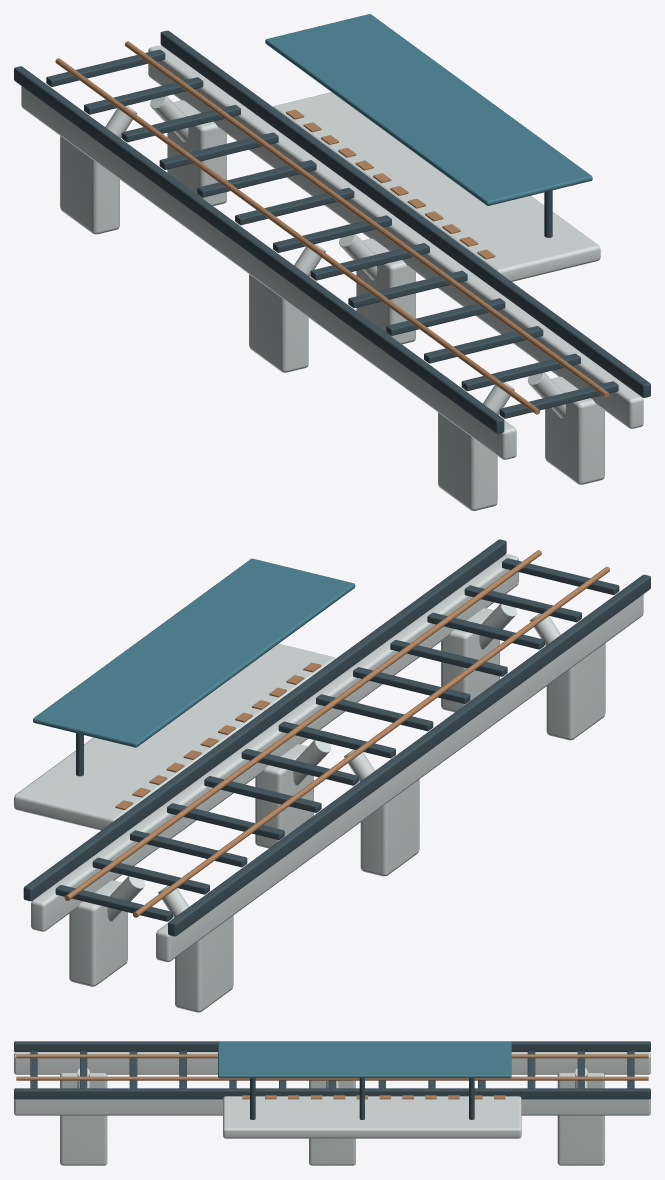
File: ElevatedRail112.fbx
3 views of the same model, one above another, from view 1: azimuth 30°, elevation 25°; view 2: azimuth 150°, elevation 25°; view 3: azimuth 270°, elevation 25° (orthographic). The views are drawn at different scales.
Visible parts, largest first — view 1: Platform glass canopy, Platform, Rail viaduct girder.001, Rail viaduct girder, Rail safety curb, Rail safety curb.001, Viaduct pier.003, Viaduct pier.002, Viaduct pier.001, Viaduct pier, Contact rail, Contact rail.001 (+18 smaller); view 2: Platform glass canopy, Platform, Rail viaduct girder.001, Rail viaduct girder, Rail safety curb, Rail safety curb.001, Viaduct pier.005, Viaduct pier, Viaduct pier.001, Viaduct pier.002, Contact rail, Contact rail.001 (+18 smaller); view 3: Platform, Platform glass canopy, Rail safety curb.001, Rail viaduct girder, Rail viaduct girder.001, Rail safety curb, Contact rail.001, Viaduct pier.003, Viaduct pier.005, Contact rail, Viaduct pier.004, Viaduct pier (+12 smaller).
Part boxes in pixels (left/top/right/bottom): Platform glass canopy: left=265, top=14, right=592, bottom=205; Platform: left=273, top=92, right=600, bottom=281; Rail viaduct girder.001: left=148, top=45, right=643, bottom=428; Rail viaduct girder: left=21, top=86, right=516, bottom=459; Rail safety curb: left=14, top=66, right=504, bottom=433; Rail safety curb.001: left=160, top=30, right=650, bottom=397; Viaduct pier.003: left=545, top=376, right=604, bottom=484; Viaduct pier.002: left=60, top=136, right=119, bottom=234; Viaduct pier.001: left=249, top=274, right=308, bottom=372; Viaduct pier: left=438, top=412, right=497, bottom=510; Contact rail: left=55, top=58, right=539, bottom=414; Contact rail.001: left=125, top=41, right=609, bottom=397; Platform glass canopy: left=33, top=558, right=355, bottom=747; Platform: left=14, top=643, right=335, bottom=830; Rail viaduct girder.001: left=31, top=554, right=518, bottom=931; Rail viaduct girder: left=156, top=594, right=643, bottom=961; Rail safety curb: left=168, top=574, right=650, bottom=936; Rail safety curb.001: left=23, top=539, right=506, bottom=901; Viaduct pier.005: left=69, top=880, right=127, bottom=986; Viaduct pier: left=546, top=643, right=605, bottom=740; Viaduct pier.001: left=360, top=779, right=419, bottom=876; Viaduct pier.002: left=175, top=915, right=233, bottom=1012; Contact rail: left=133, top=566, right=609, bottom=917; Contact rail.001: left=64, top=550, right=541, bottom=900; Platform: left=223, top=1096, right=521, bottom=1138; Platform glass canopy: left=218, top=1041, right=511, bottom=1078; Rail safety curb.001: left=14, top=1088, right=650, bottom=1099; Rail viaduct girder: left=14, top=1052, right=650, bottom=1074; Rail viaduct girder.001: left=14, top=1098, right=650, bottom=1115; Rail safety curb: left=14, top=1041, right=650, bottom=1051; Contact rail.001: left=16, top=1076, right=648, bottom=1080; Viaduct pier.003: left=60, top=1115, right=107, bottom=1165; Viaduct pier.005: left=557, top=1115, right=604, bottom=1165; Contact rail: left=16, top=1054, right=648, bottom=1058; Viaduct pier.004: left=309, top=1138, right=355, bottom=1165; Viaduct pier: left=60, top=1073, right=107, bottom=1088.
Bounding box in the file's own units: 404 × 279 × 1280.
